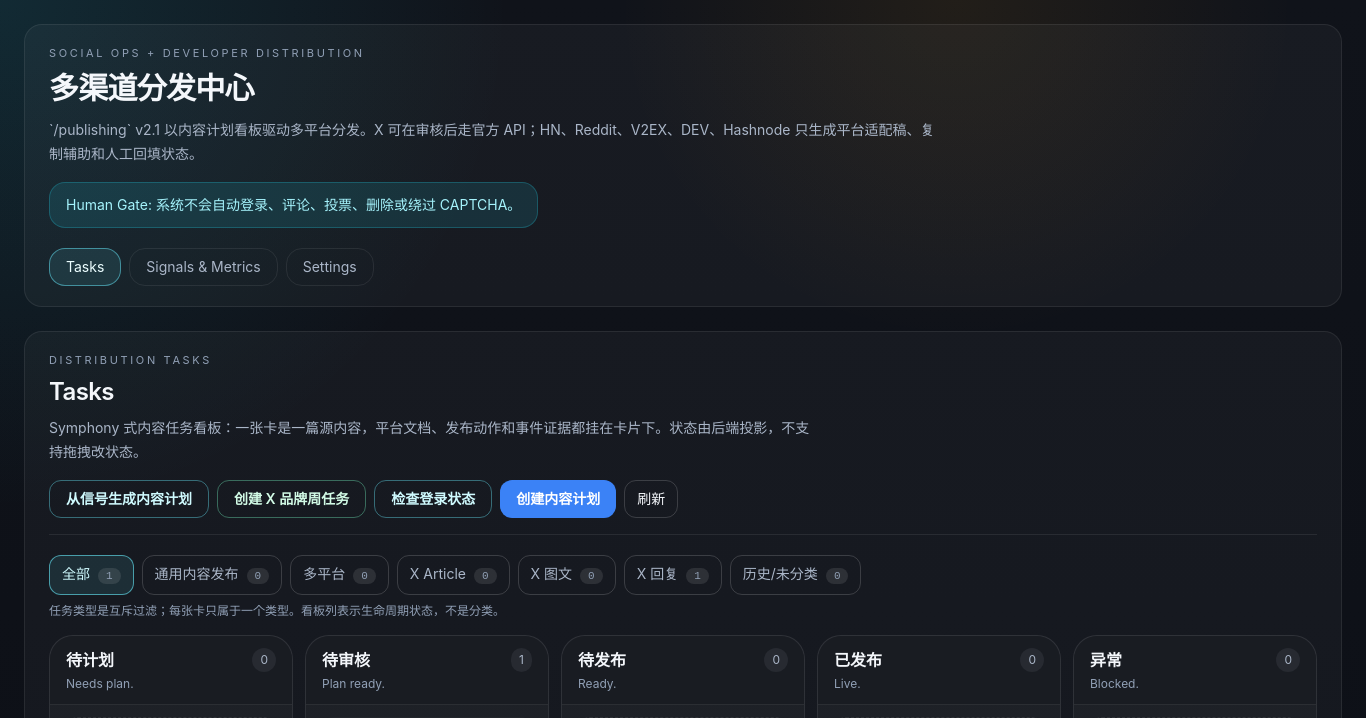
Test: PublishingPage v2 distribution workbench › opens the dedicated X reply task detail without long-form publishing sections
The image size is (1366, 718).
Expected: the text "任务类型是互斥过滤；每张卡只属于一个类型。看板列表示生命周期状态，不是分类。" is shown, [49,603,505,618]
Click the button "通用内容发布0" at (212, 575), box [142,555,282,595]
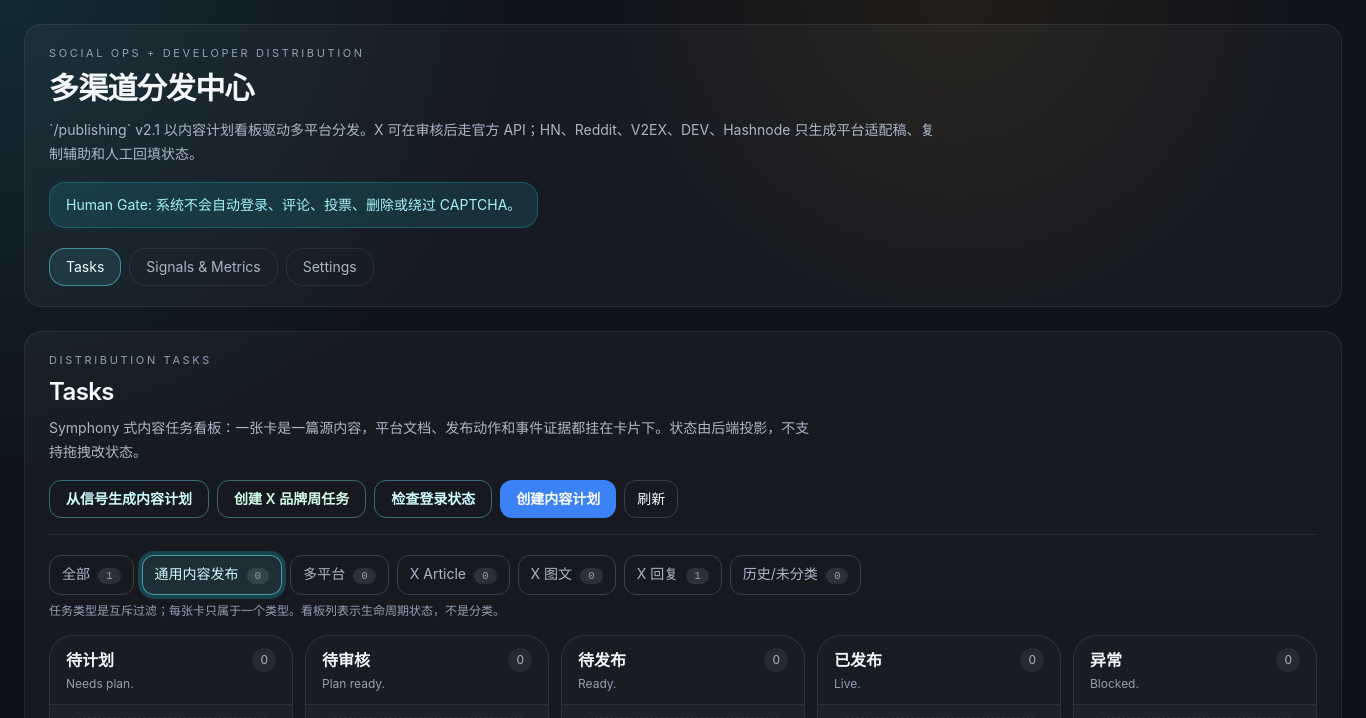
Click the button "X 回复1" at (673, 575), box [624,555,722,595]
(page scrolled)
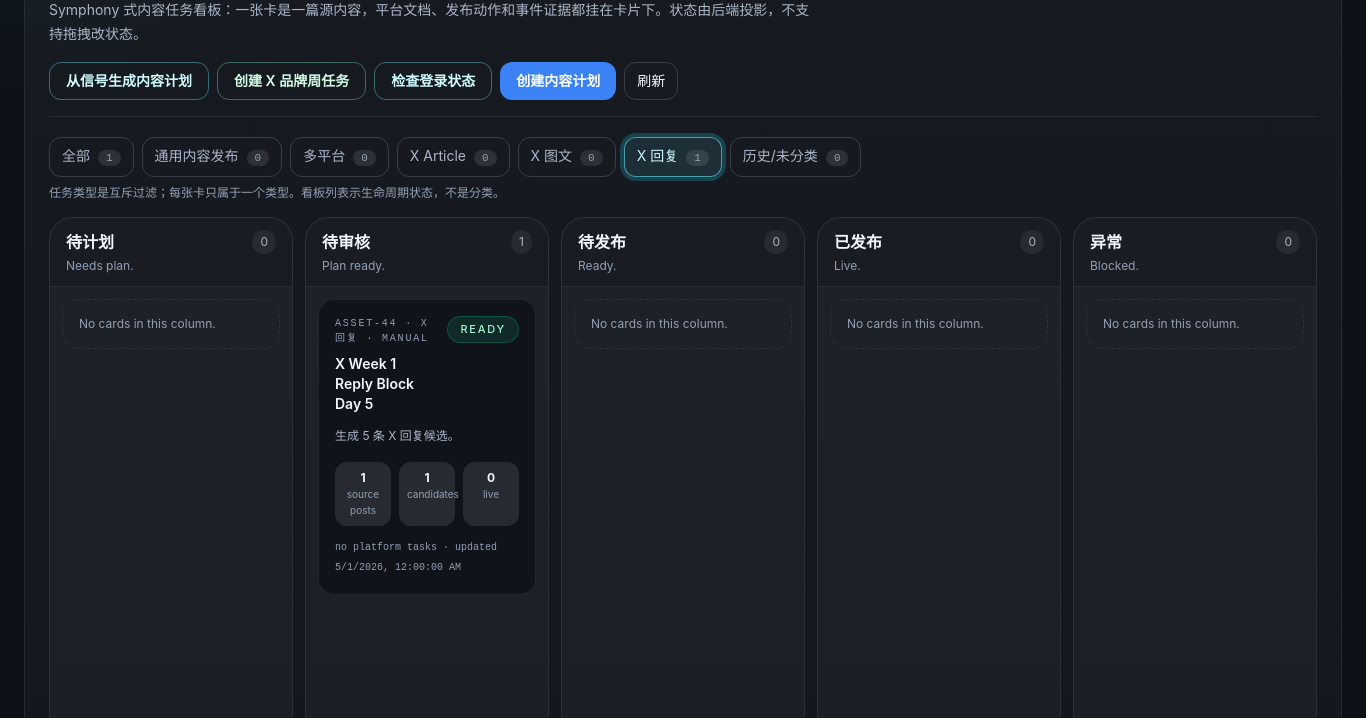
Expected: the text "X Week 1 Reply Block Day 5" is shown
Click the text "X Week 1 Reply Block Day 5" at (375, 384), box [335,355,414,412]
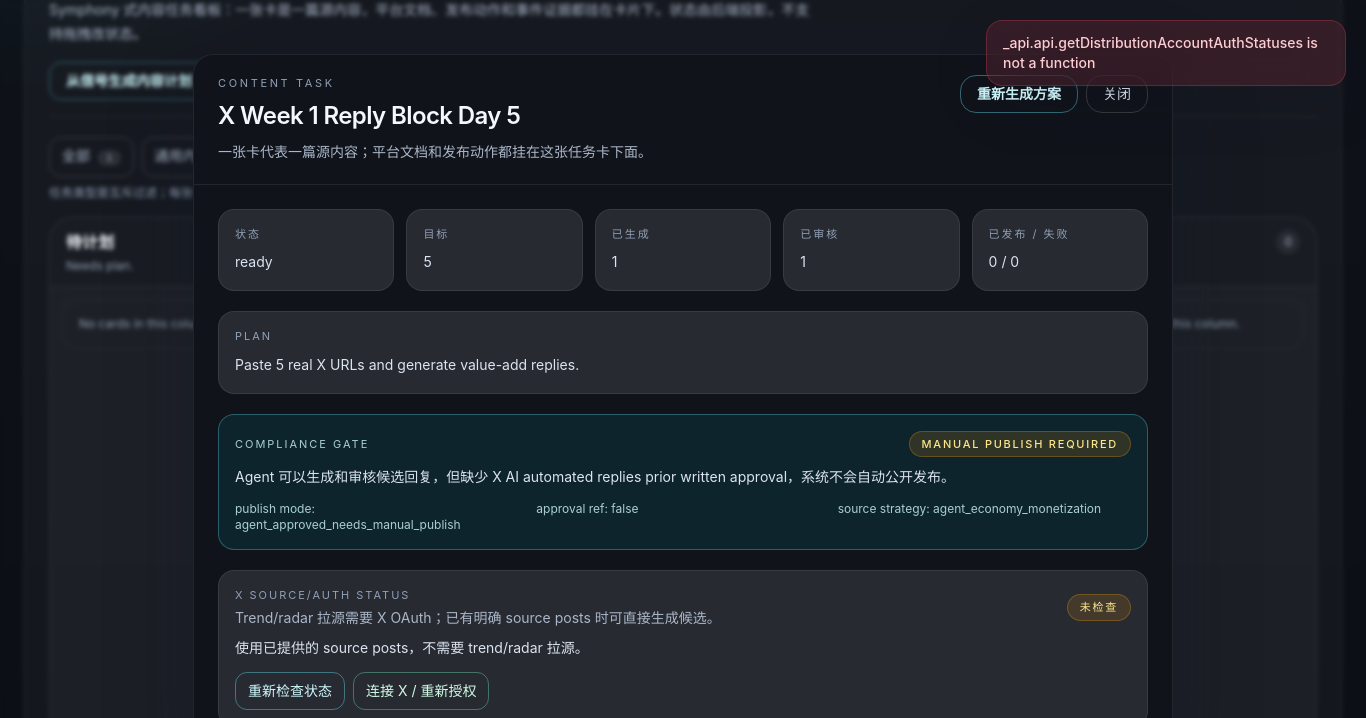
Expected: the text "manual publish required" is shown, [908,431,1131,457]
Expected: the text "source strategy: agent_economy_monetization" is shown, [838,501,1101,516]
